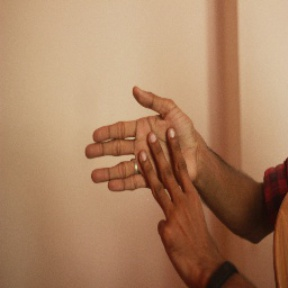M: (80, 82, 206, 227)
